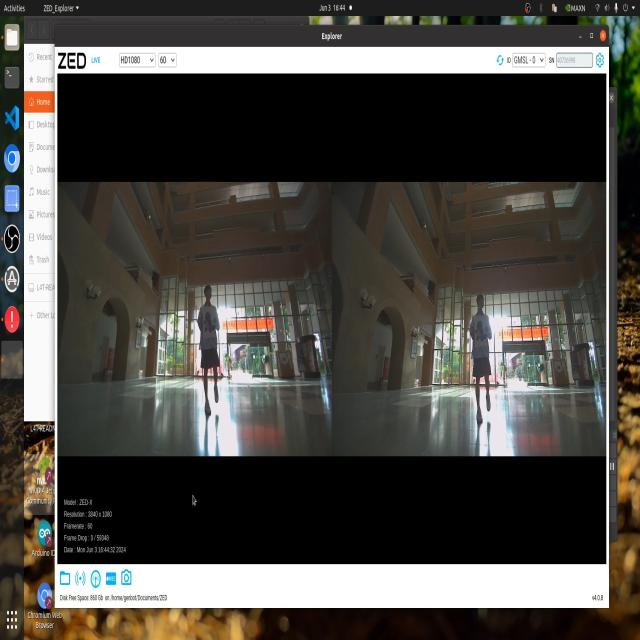blue: (471, 319, 491, 352), (203, 307, 215, 333)
